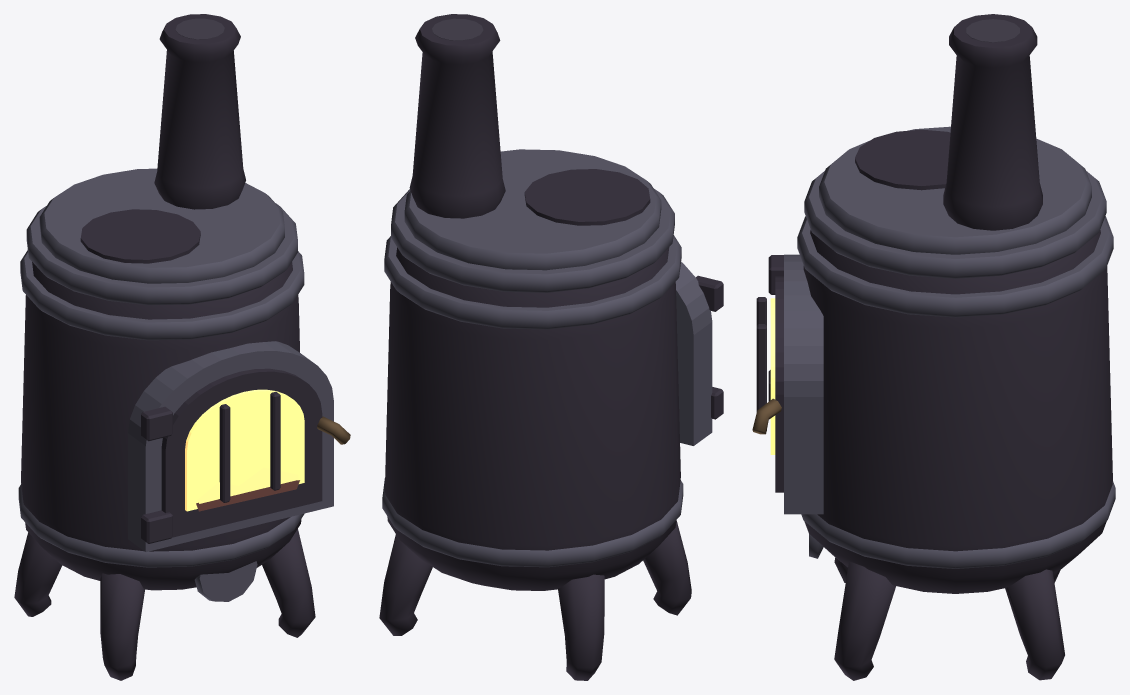
Rendered from stove.glb.
The picture shows the model from 3 angles, left to right: view 1: azimuth 30°, elevation 25°; view 2: azimuth 150°, elevation 25°; view 3: azimuth 270°, elevation 25°; orthographic projection. The views are drawn at different scales.
Parts seen in each view (by area): view 1: stove; view 2: stove; view 3: stove.
Boxes of the visible parts, <box> form: stove: <box>14,14,350,680</box>; stove: <box>379,14,723,680</box>; stove: <box>752,14,1115,680</box>.
Bounding box in the file's own units: 0.502 × 1.09 × 0.5697.
